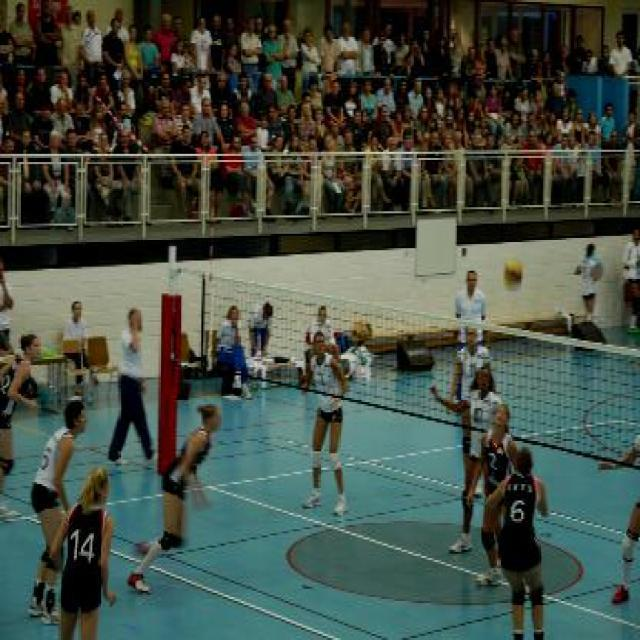volleyball: (500, 258, 525, 292)
